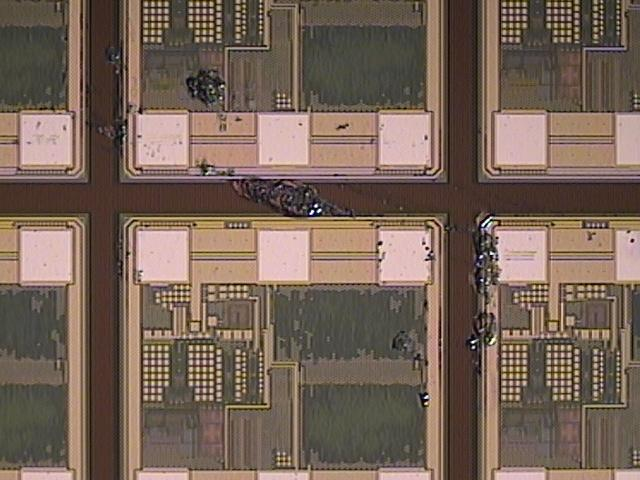SCRATCH: (36, 30, 523, 376)
